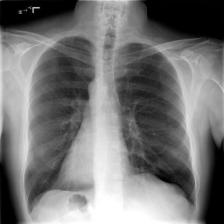normal: (21, 27, 200, 224)
